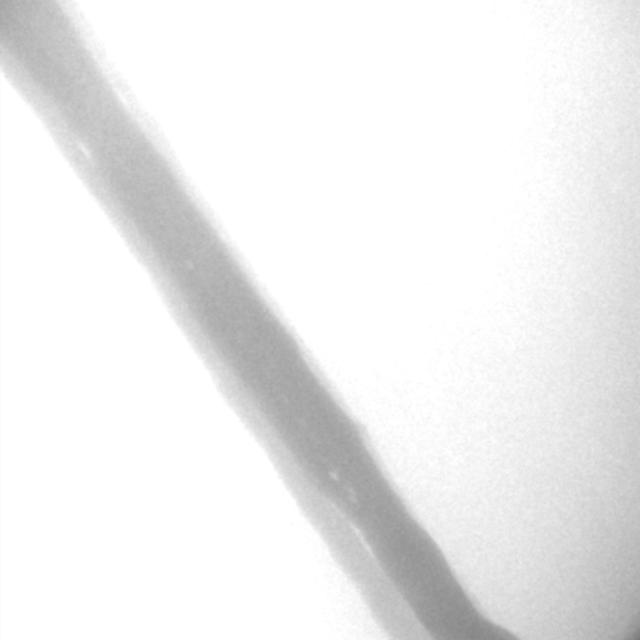air hole: (77, 141, 90, 157), (329, 468, 339, 481)
broken arc: (323, 495, 429, 637)
